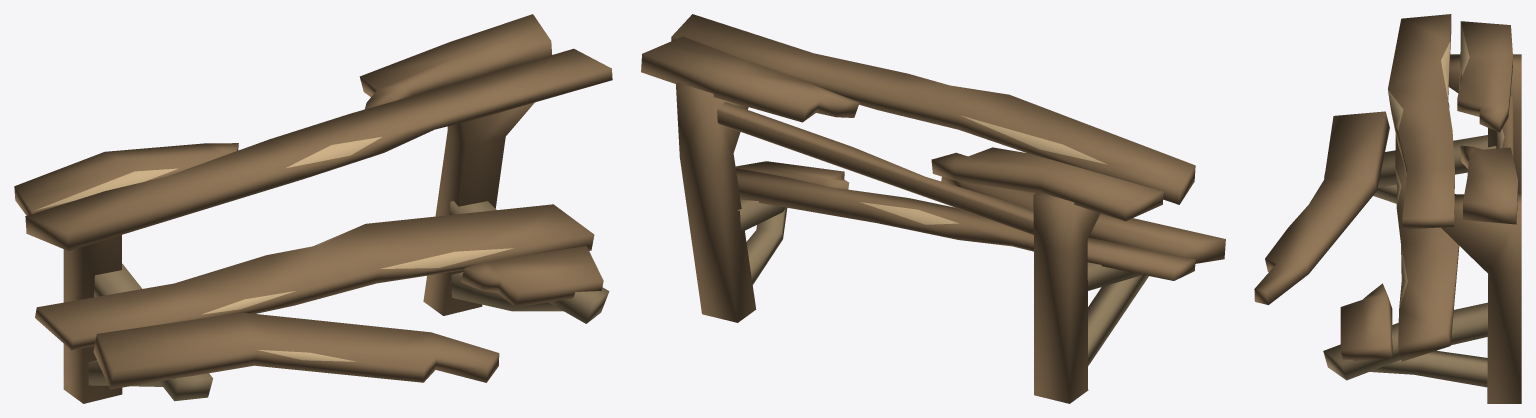
Rendered from rpgpp_av_shelf_wall_03b.gltf.
3 views of the same model, side by side, from view 1: azimuth 30°, elevation 25°; view 2: azimuth 150°, elevation 25°; view 3: azimuth 270°, elevation 25° (orthographic). The views are drawn at different scales.
Visible parts, largest first — view 1: rpgpp_av_shelf_wall_03b; view 2: rpgpp_av_shelf_wall_03b; view 3: rpgpp_av_shelf_wall_03b.
Boxes of the visible parts, x1,y1,x2,y2 form: rpgpp_av_shelf_wall_03b: [14, 14, 612, 403]; rpgpp_av_shelf_wall_03b: [641, 14, 1225, 403]; rpgpp_av_shelf_wall_03b: [1254, 14, 1521, 403].
Bounding box in the file's own units: 0.0158 × 0.00713 × 0.00764.
1 material, 1 textured.
